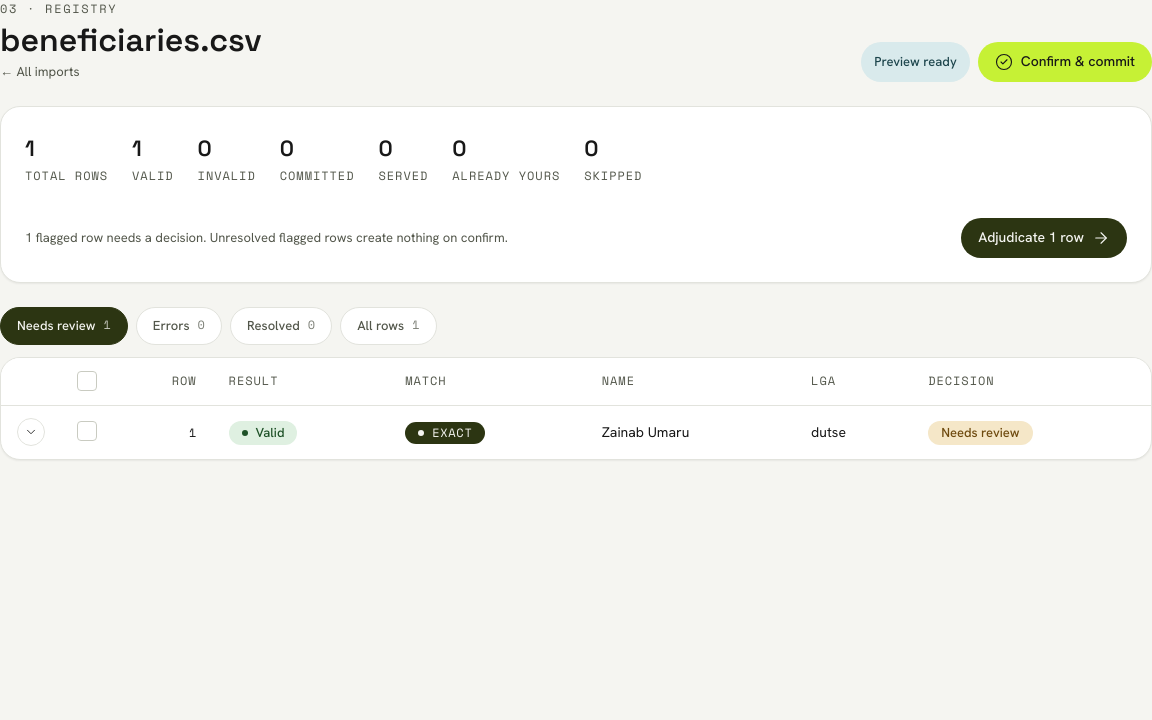
Test case: ImportBatchPage — duplicate resolution › shows a match badge and reveals the existing record on expand
Expected: the text "Exact" is shown, [405,422,485,444]
// Expand the flagged row → the reveal panel discloses the existing record.
Click the button named "expand zainab umaru" at x=31, y=432, box [17,418,45,446]
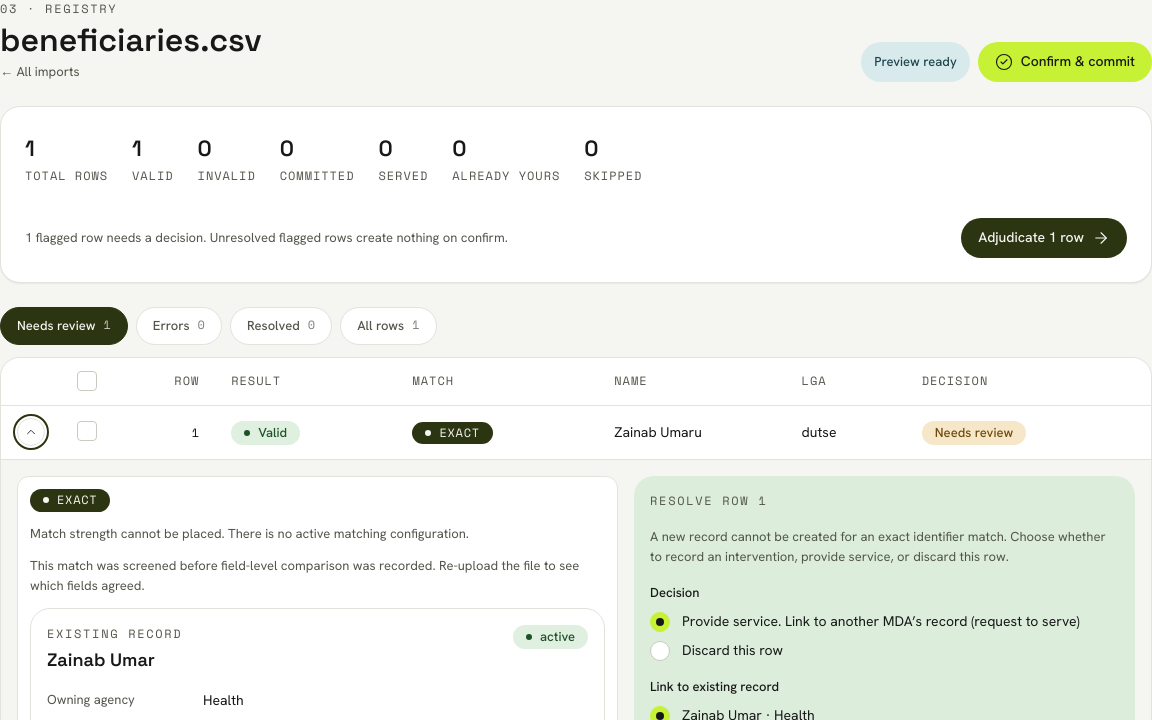
Result: the text "Zainab Umar" is shown at [47,648,155,671]
Result: the text "Health" is shown at [203,691,244,709]
